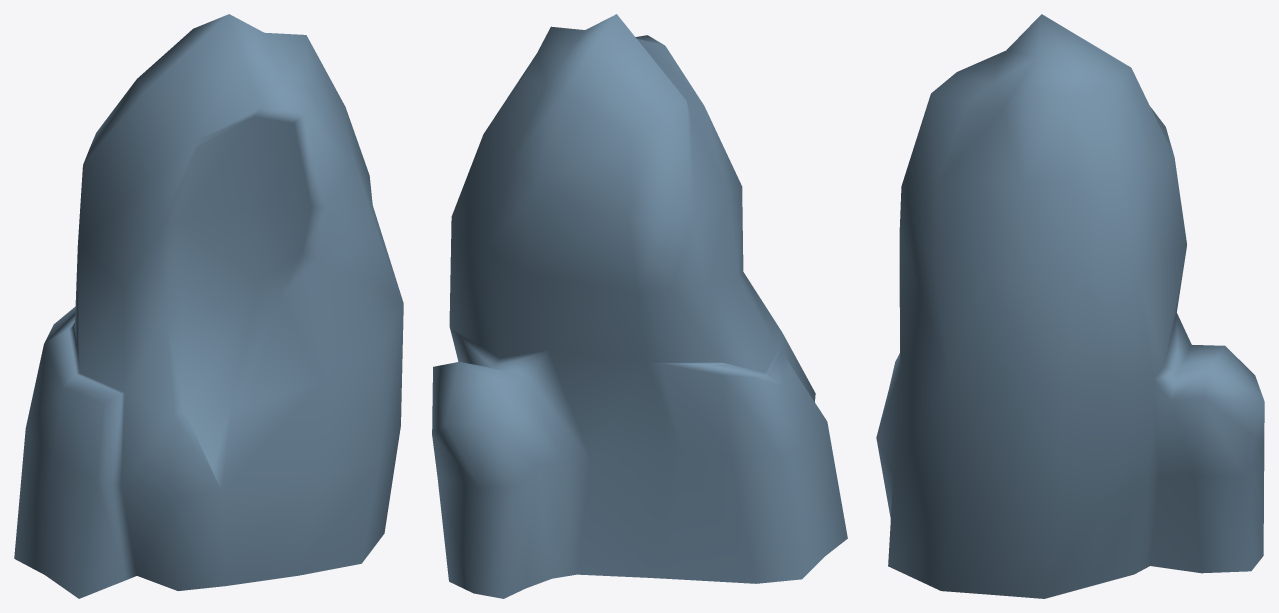
Rendered from SM_rock_big.fbx.
3 views of the same model, side by side, from view 1: azimuth 30°, elevation 25°; view 2: azimuth 150°, elevation 25°; view 3: azimuth 270°, elevation 25° (orthographic). The views are drawn at different scales.
Parts seen in each view (by area): view 1: SM_rock_Big; view 2: SM_rock_Big; view 3: SM_rock_Big.
Part boxes in pixels (x1,y1,x2,y2): SM_rock_Big: (14,14,403,598); SM_rock_Big: (432,14,847,598); SM_rock_Big: (876,14,1264,598).
Size of the model in its own units: 128 by 178 by 119.
